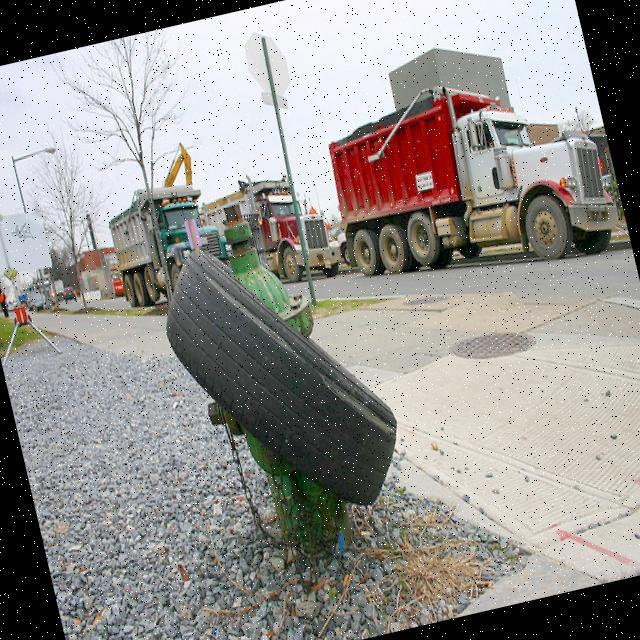fire_hydrant: (161, 190, 367, 580)
